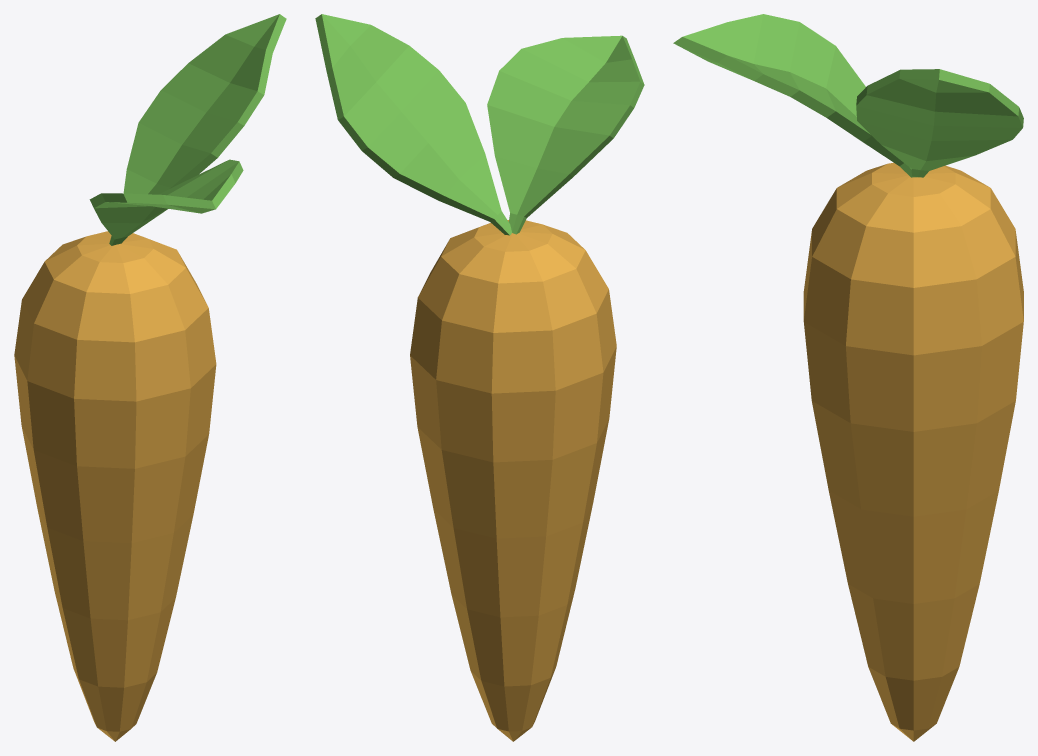
The model's file is O_Clutter_VeggyCarrot_1.fbx.
3 renders of one model, left to right at view 1: azimuth 30°, elevation 25°; view 2: azimuth 150°, elevation 25°; view 3: azimuth 270°, elevation 25°, orthographic. The views are drawn at different scales.
Visible parts, largest first — view 1: pCube7; view 2: pCube7; view 3: pCube7.
Part boxes in pixels (x1,y1,x2,y2): pCube7: (14, 14, 286, 741); pCube7: (315, 14, 644, 741); pCube7: (673, 14, 1023, 741).
Size of the model in its own units: 0.4075 by 0.9747 by 0.4022.
